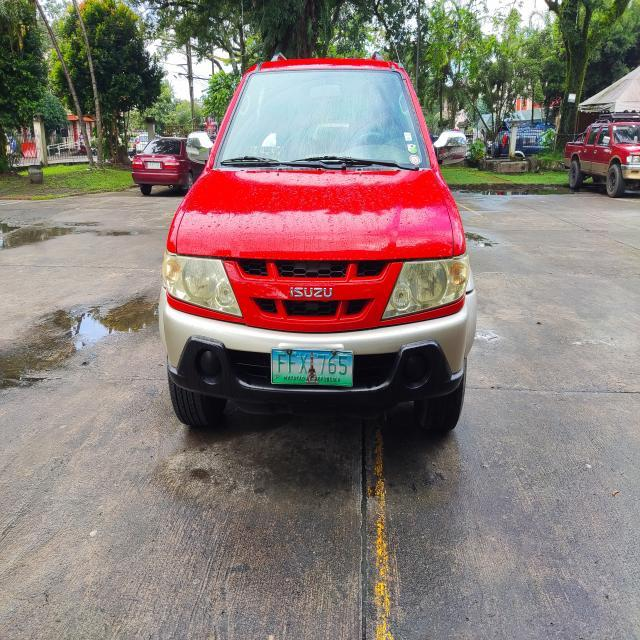LicensePlate: (271, 344, 359, 394)
